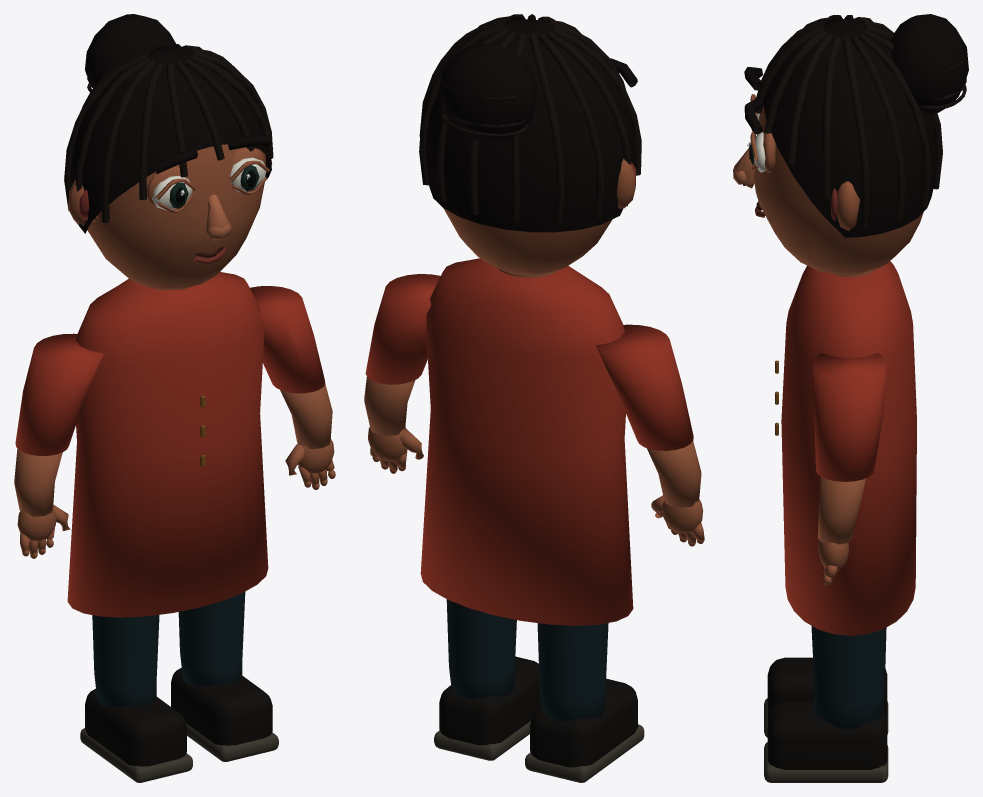
Rendered from patient-44.glb.
3 renders of one model, left to right at view 1: azimuth 30°, elevation 25°; view 2: azimuth 150°, elevation 25°; view 3: azimuth 270°, elevation 25°, orthographic. The views are drawn at different scales.
Parts seen in each view (by area): view 1: Body, Head, LegL, LegR, ArmL, ArmR; view 2: Body, Head, LegL, LegR, ArmL, ArmR; view 3: Head, Body, LegR, ArmR, LegL.
Part boxes in pixels (x1,y1,x2,y2): Body: [67, 272, 268, 617]; Head: [64, 14, 273, 290]; LegL: [80, 614, 192, 782]; LegR: [171, 592, 278, 761]; ArmL: [14, 333, 103, 558]; ArmR: [250, 286, 335, 489]; Body: [420, 258, 633, 625]; Head: [419, 14, 641, 275]; LegL: [525, 623, 644, 782]; LegR: [434, 599, 541, 760]; ArmL: [596, 324, 704, 546]; ArmR: [364, 274, 440, 473]; Head: [733, 14, 968, 275]; Body: [775, 261, 916, 635]; LegR: [764, 625, 888, 782]; ArmR: [812, 353, 886, 585]; LegL: [764, 657, 888, 737].
Size of the model in its own units: 0.6706 by 1.42 by 0.4151.
